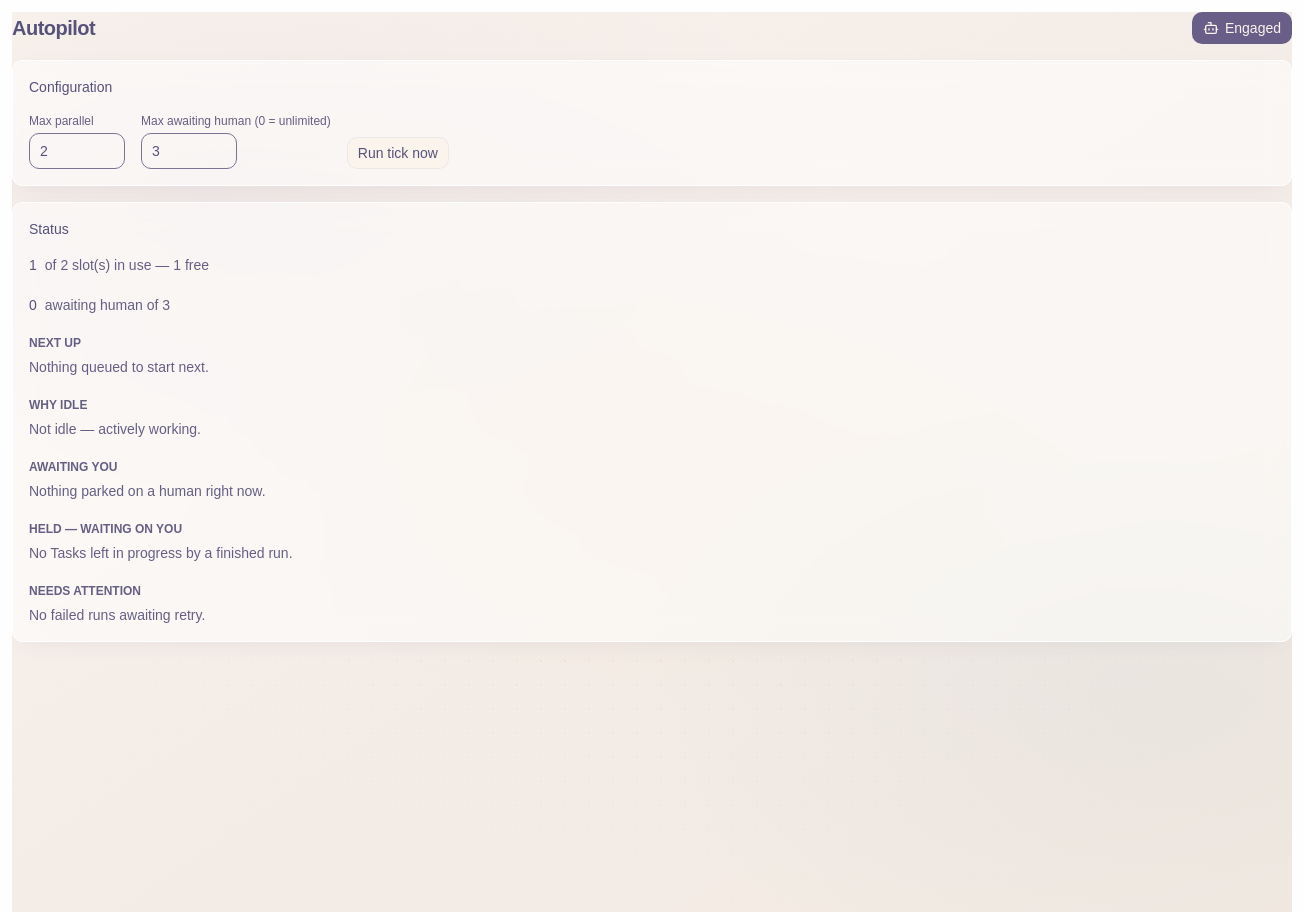
Scenario: AutopilotPage › reverts maxAwaitingHuman on an invalid entry
This screenshot has width=1304, height=912.
Replace the text in the number field with test id "autopilot-max-awaiting-human" with "-1": (189, 151) 141,133 -> 237,169
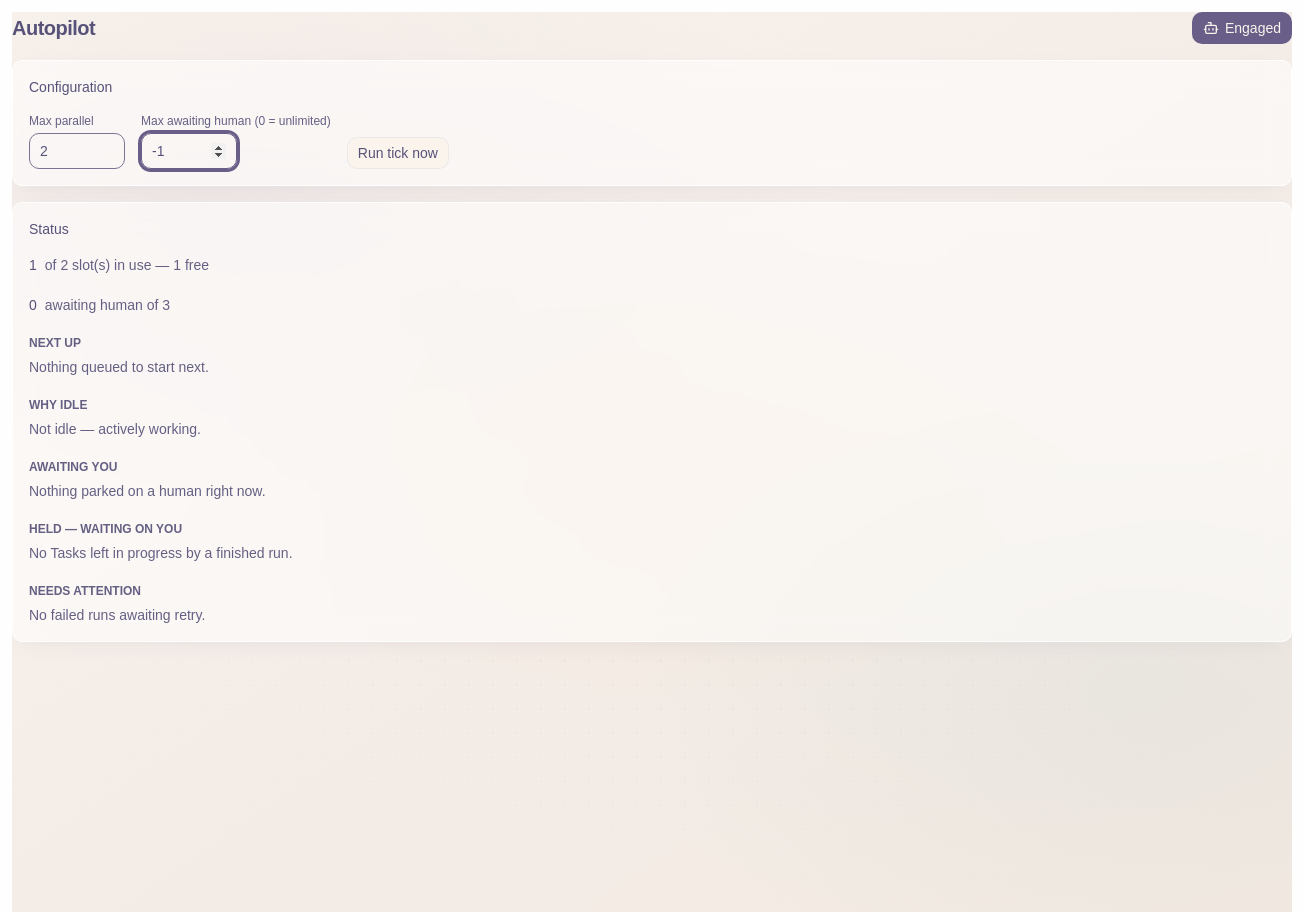
Press Tab
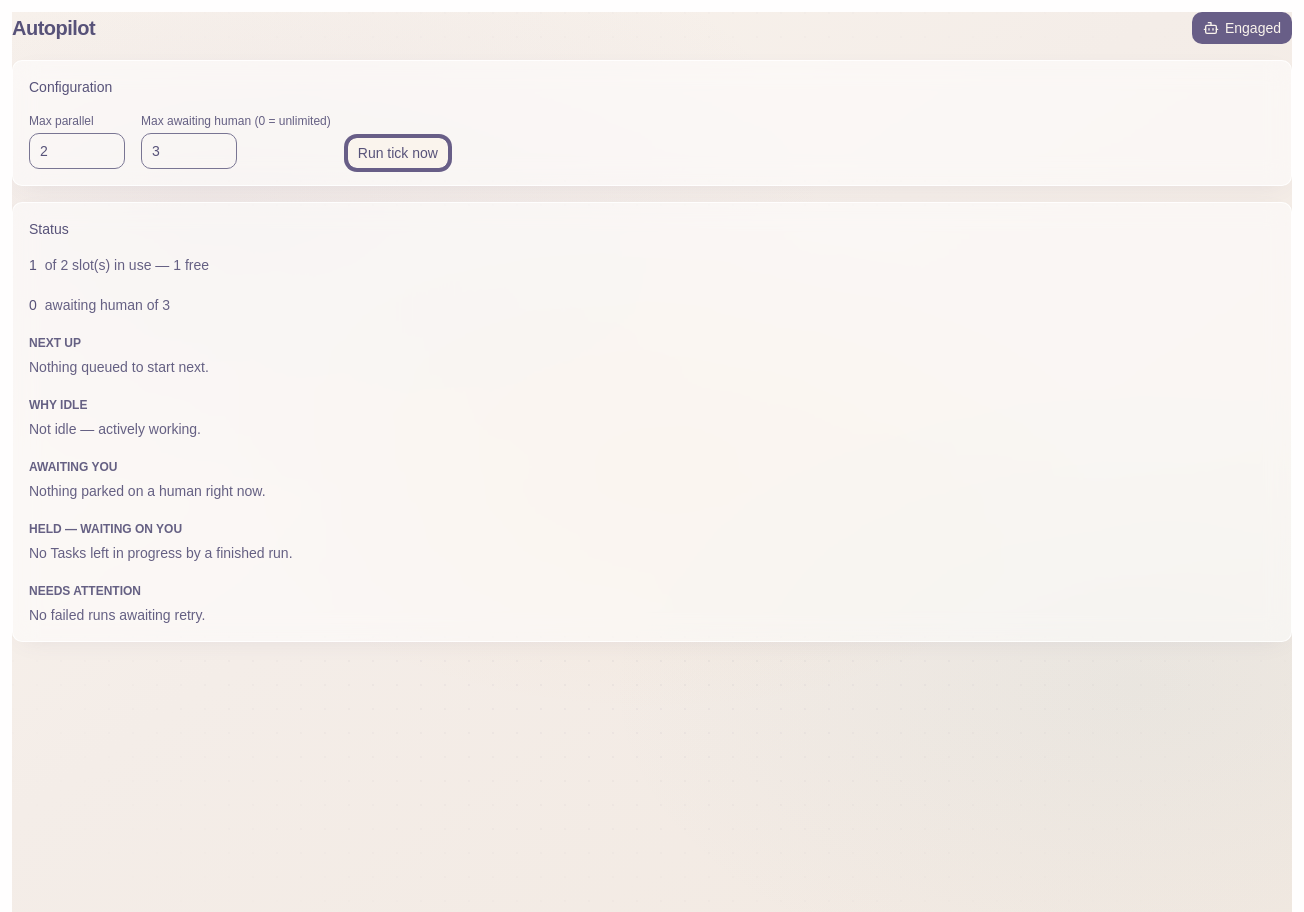
Now the number field with test id "autopilot-max-awaiting-human" holds "3", box 141,133 -> 237,169
